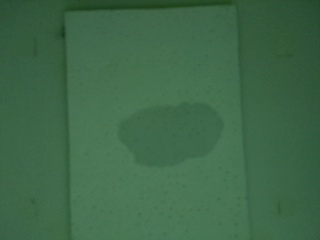Water_detected: (133, 103, 212, 163)
